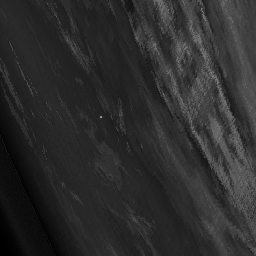Target: (97, 114, 103, 119)
